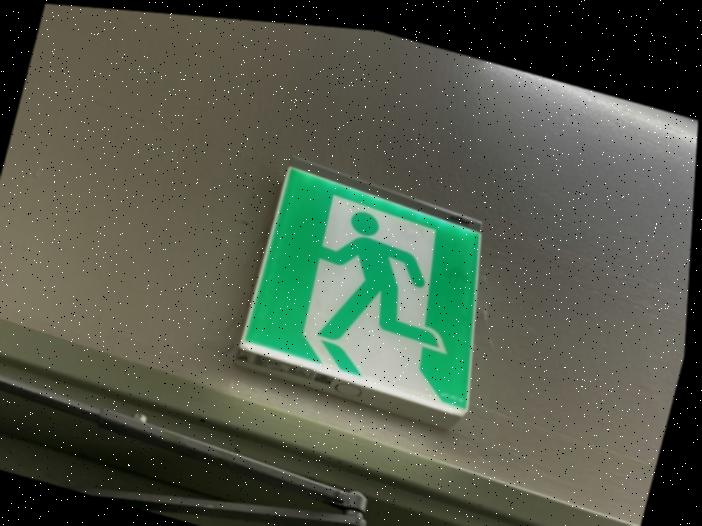emergency_exit: (237, 163, 484, 421)
